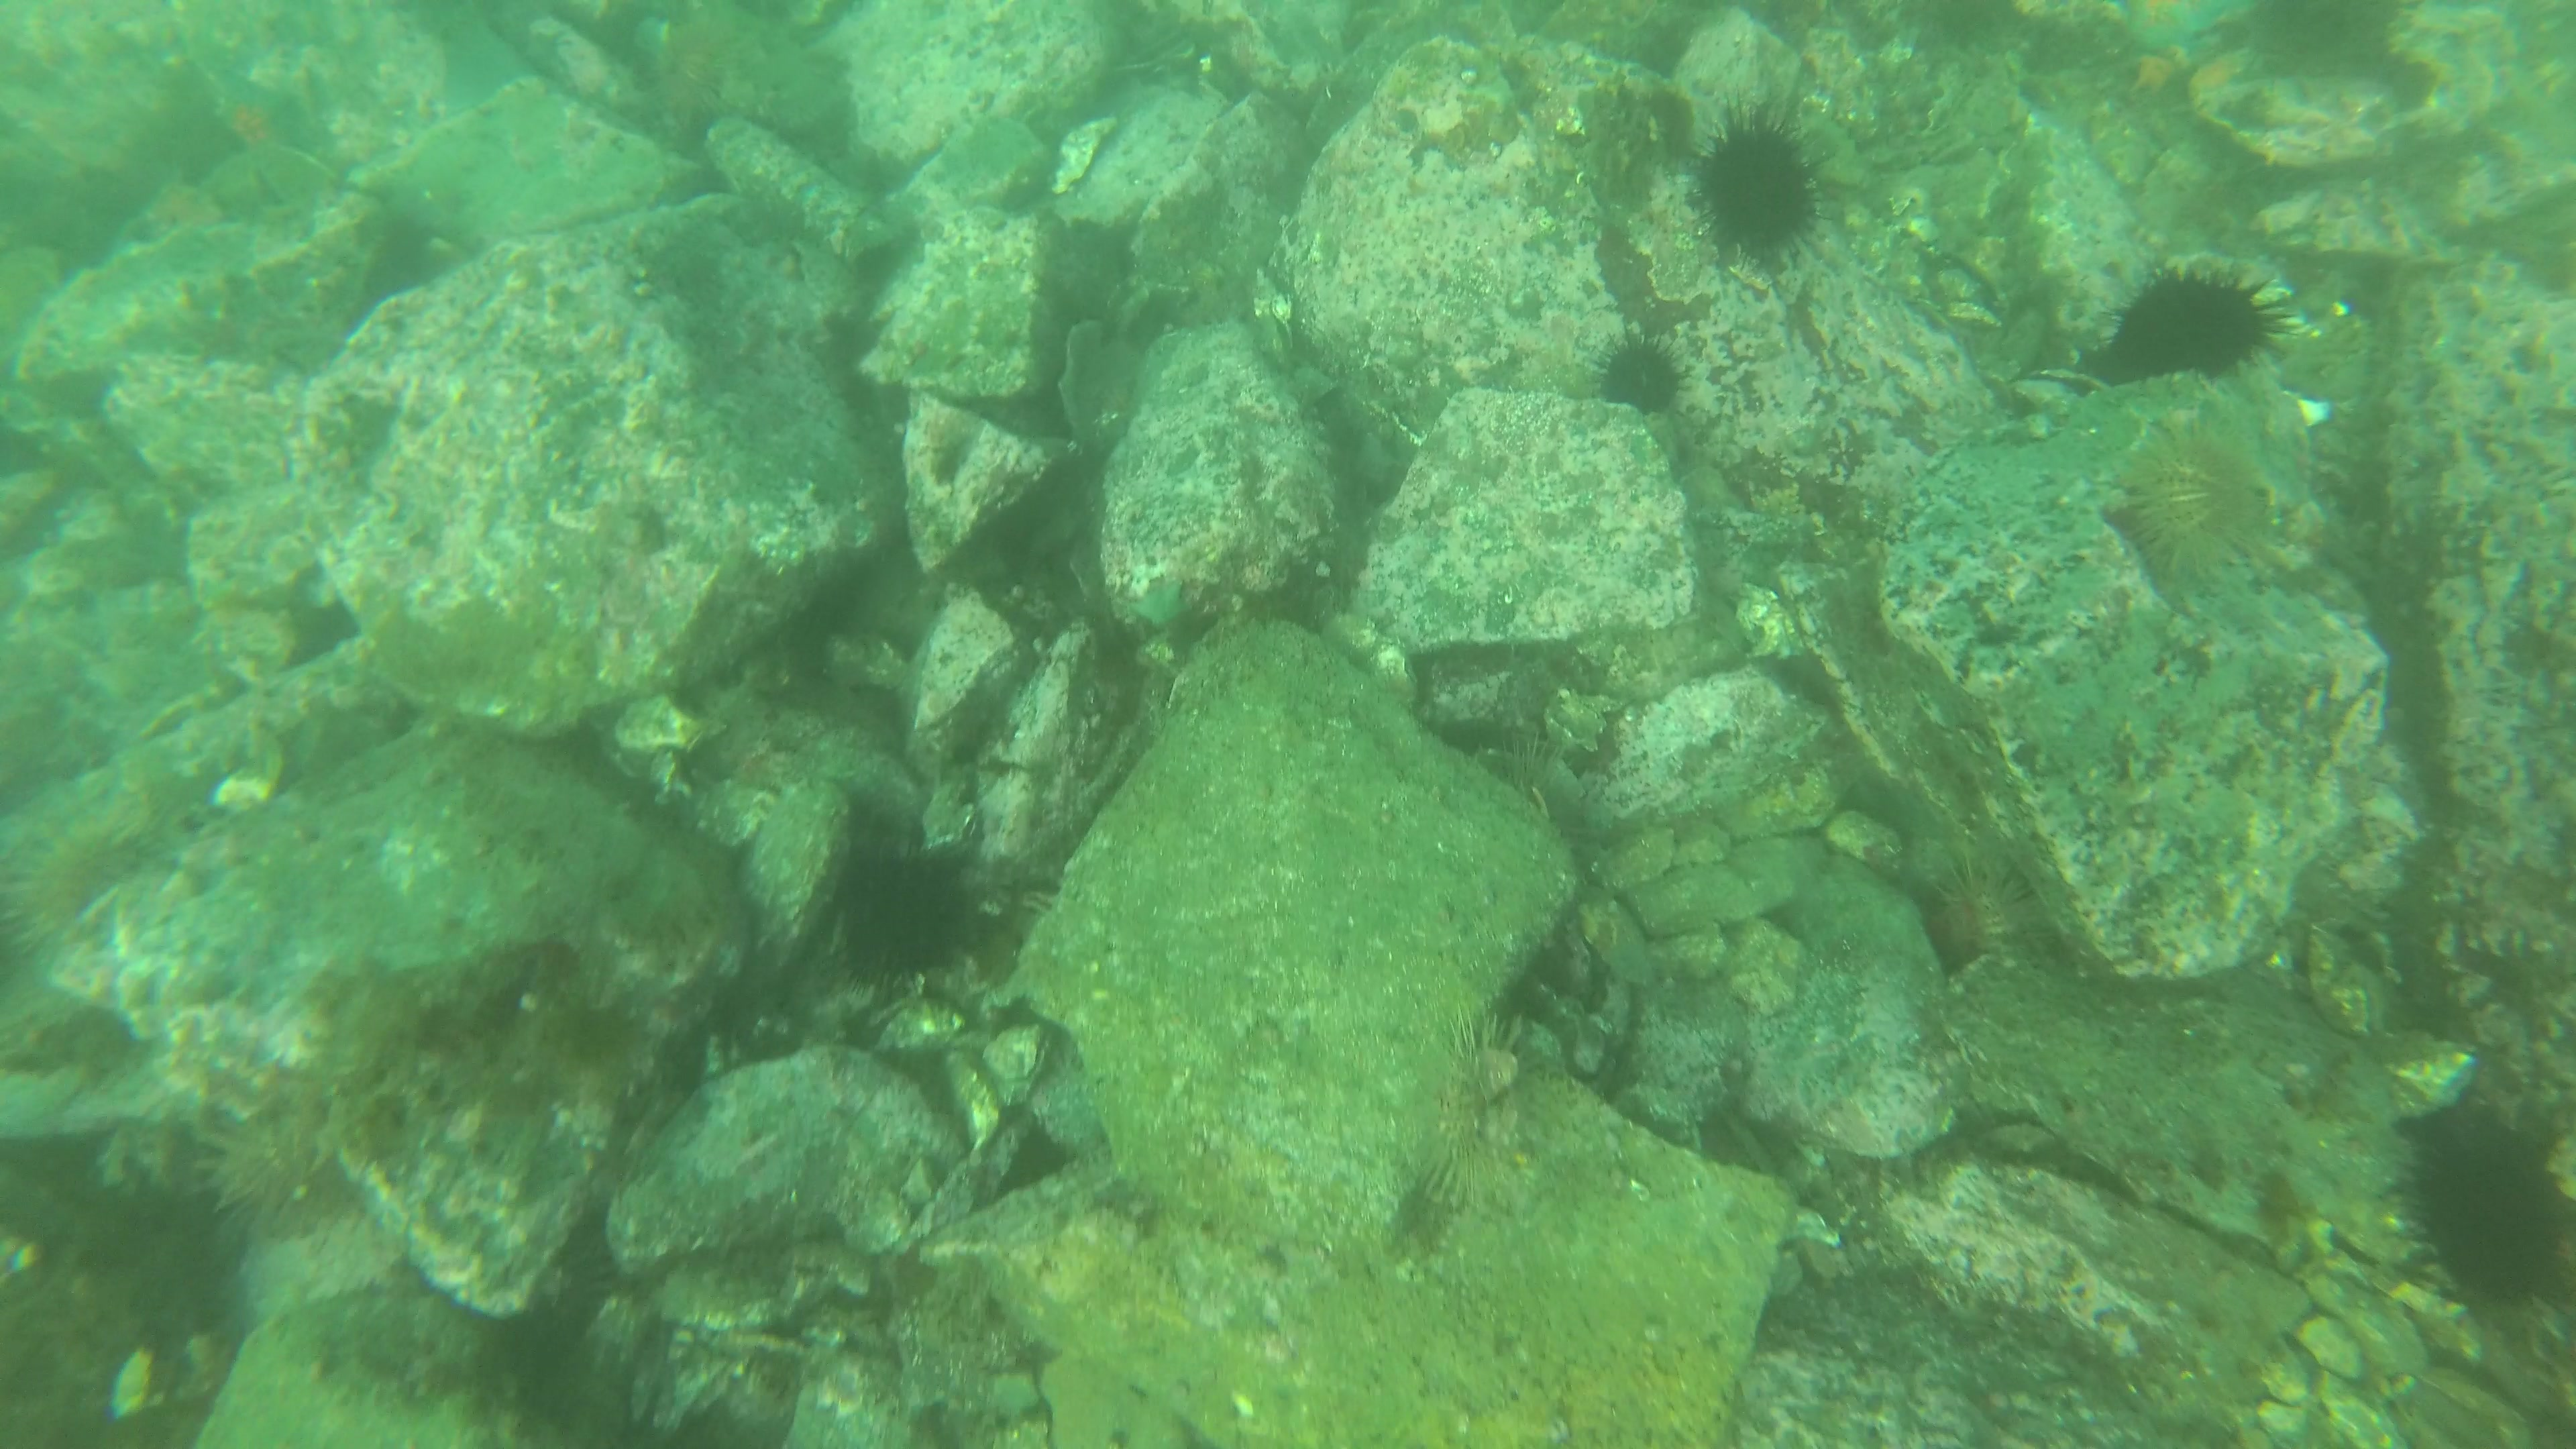echinus: (2406, 1113, 2576, 1323), (1419, 1010, 1568, 1201), (2112, 439, 2281, 586), (2098, 262, 2282, 384), (1698, 110, 1824, 258), (835, 847, 968, 984), (1591, 333, 1693, 414)
starfish: (203, 74, 304, 166)
